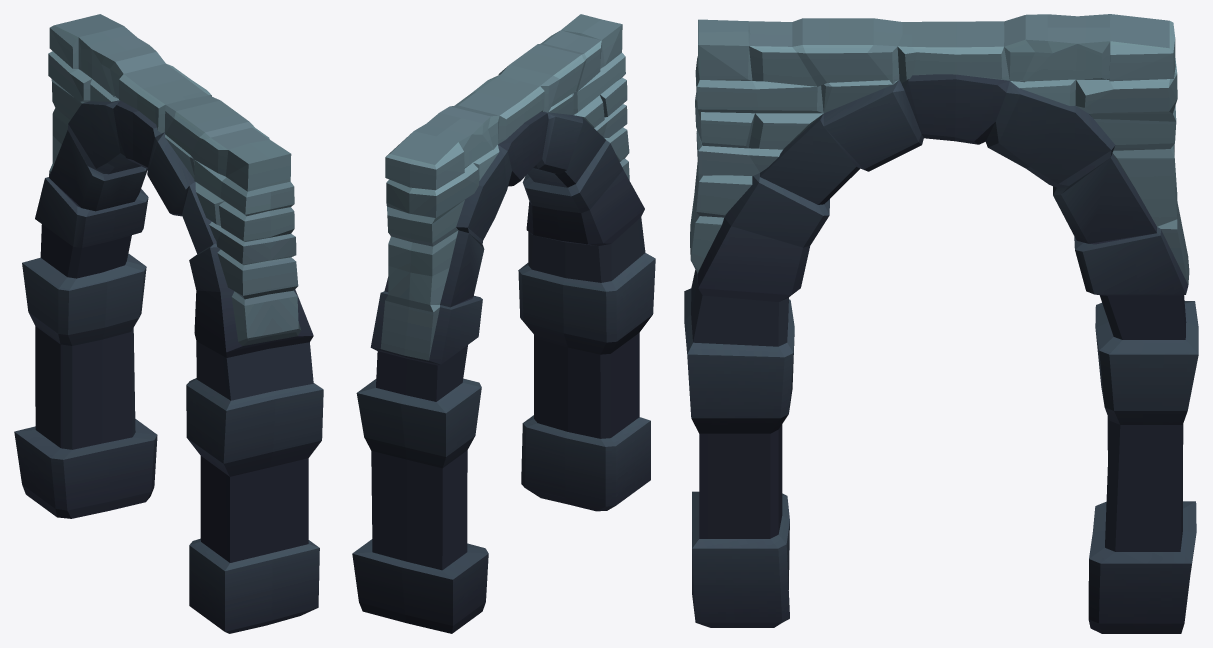
Rendered from Modular_Dungeon_Wall_Arch_High.fbx.
The picture shows the model from 3 angles, left to right: view 1: azimuth 30°, elevation 25°; view 2: azimuth 150°, elevation 25°; view 3: azimuth 270°, elevation 25°; orthographic projection. The views are drawn at different scales.
Visible parts, largest first — view 1: Wall_Arch_High; view 2: Wall_Arch_High; view 3: Wall_Arch_High.
Boxes of the visible parts, x1,y1,x2,y2 form: Wall_Arch_High: (14, 14, 323, 633); Wall_Arch_High: (352, 14, 655, 633); Wall_Arch_High: (684, 14, 1198, 633).
Size of the model in its own units: 2.37 by 10.31 by 8.3.
1 material, 1 textured.
